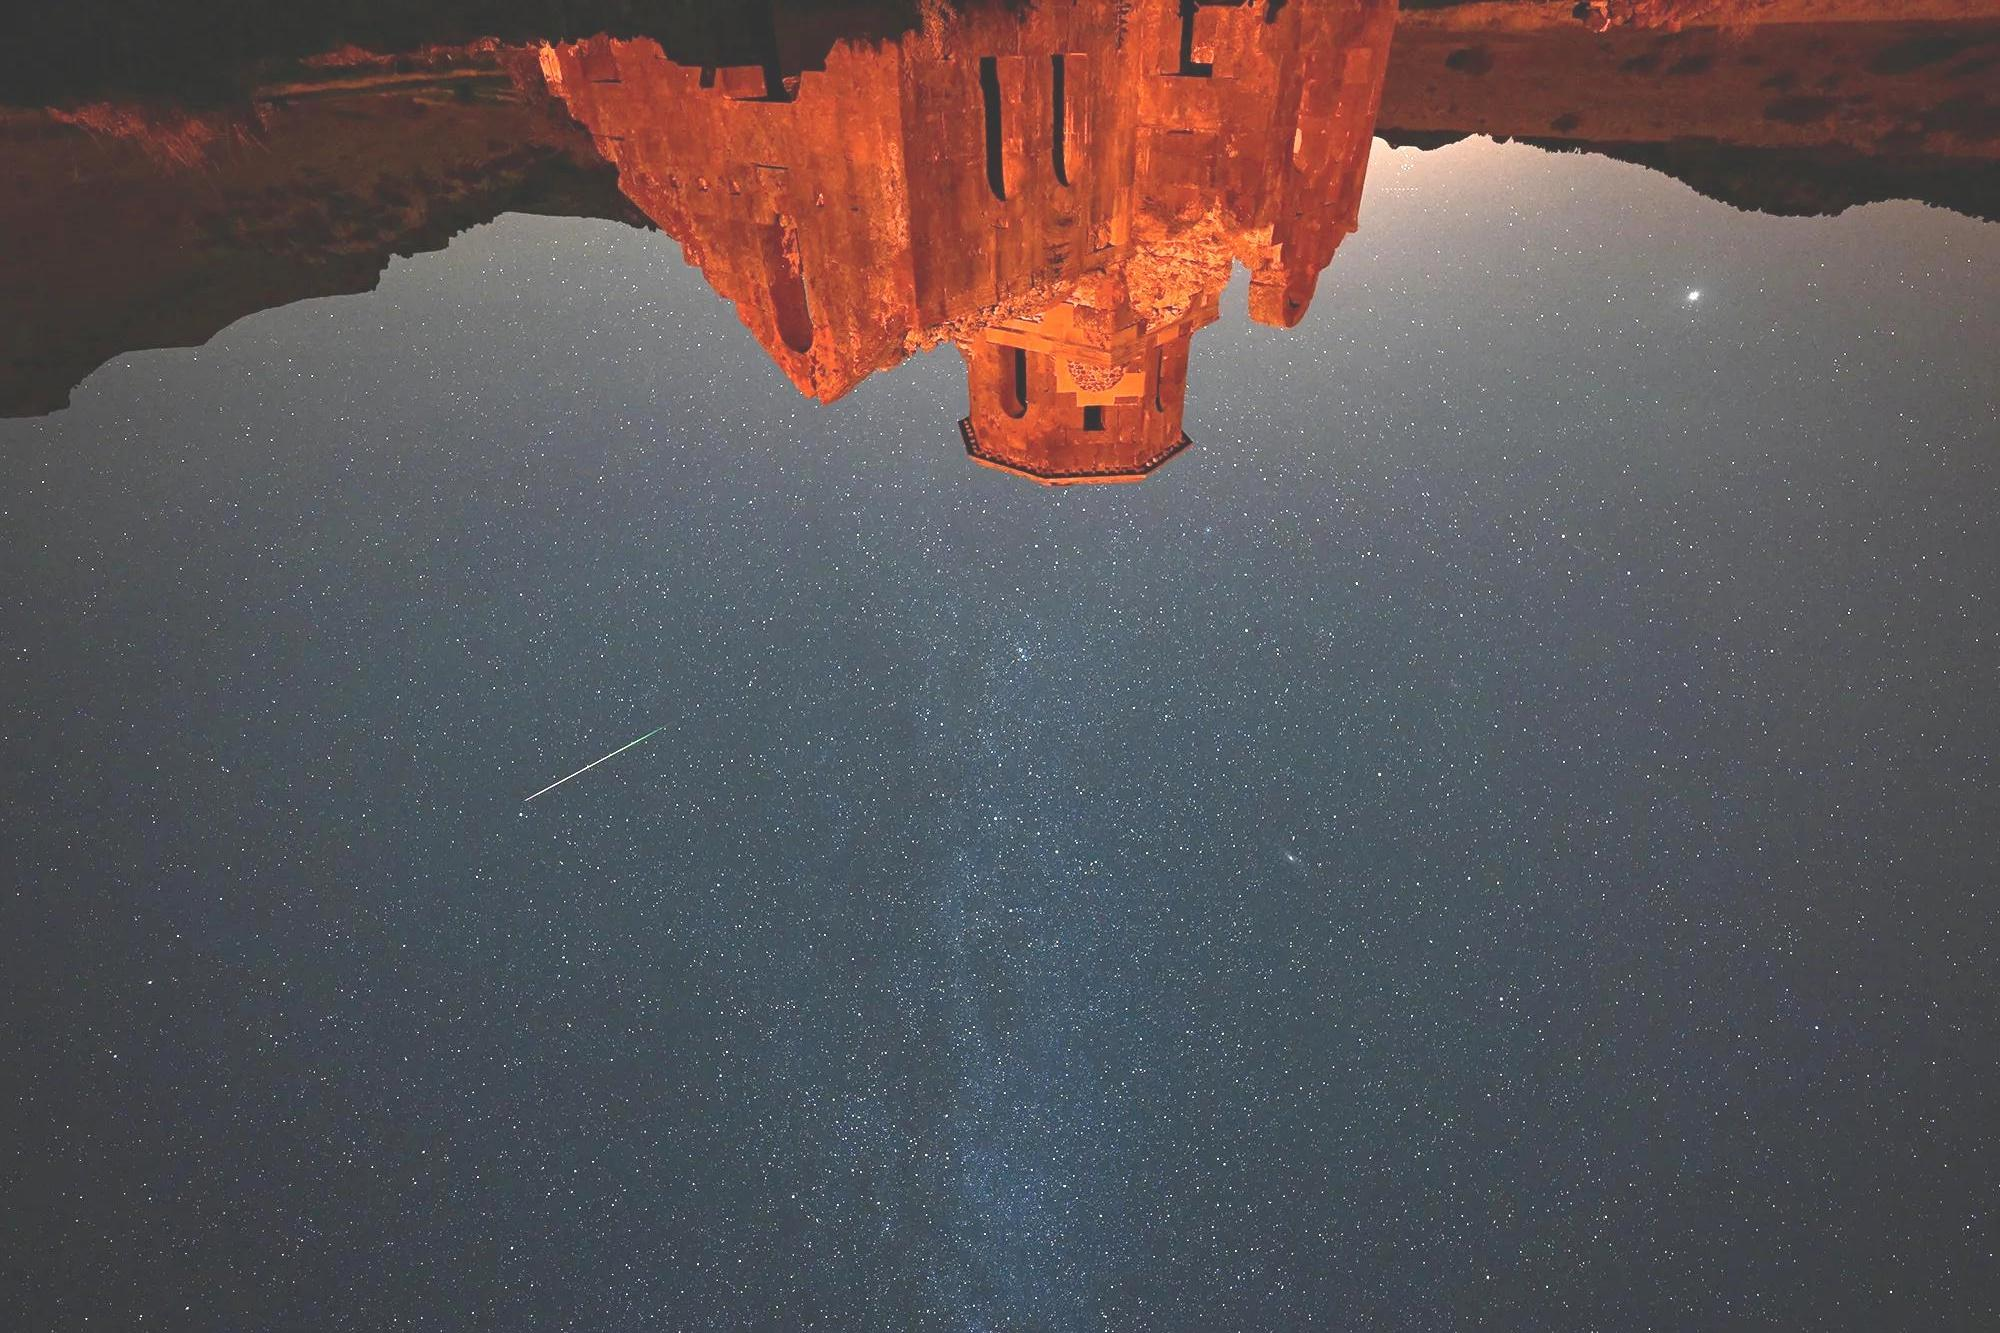meteorite: (495, 713, 688, 820)
